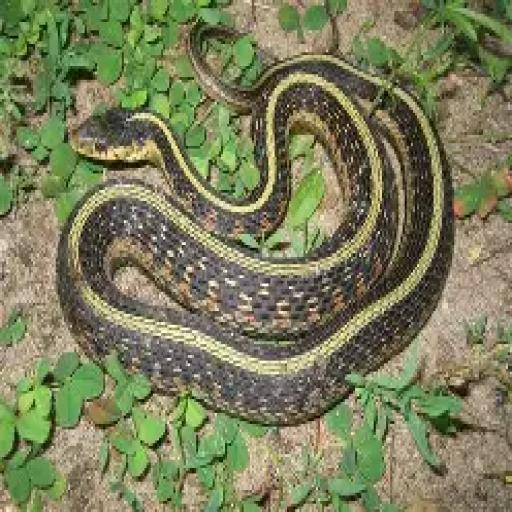snake: (58, 28, 454, 423)
